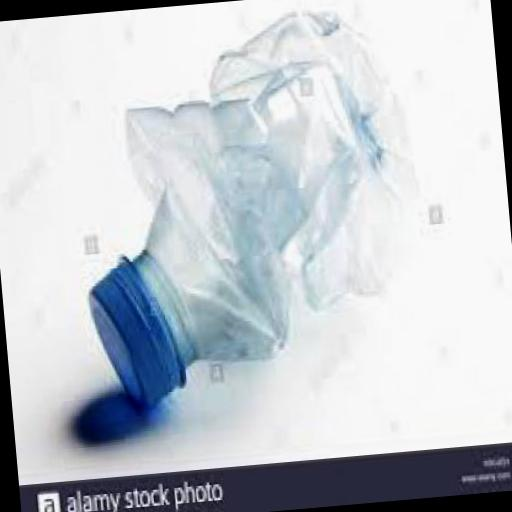plastic: (64, 2, 434, 412), (84, 250, 186, 412)
